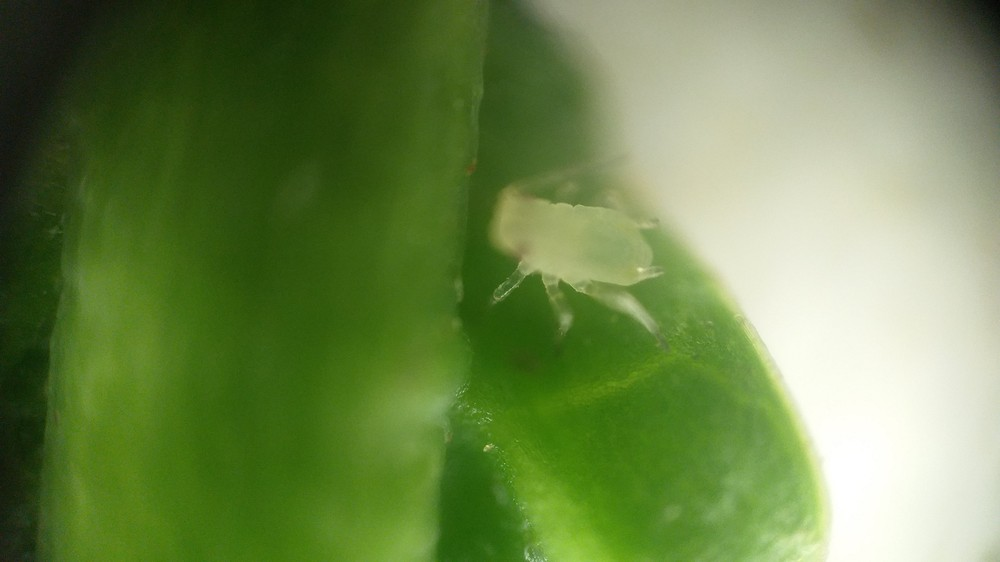Pulgon: (461, 131, 712, 381)
